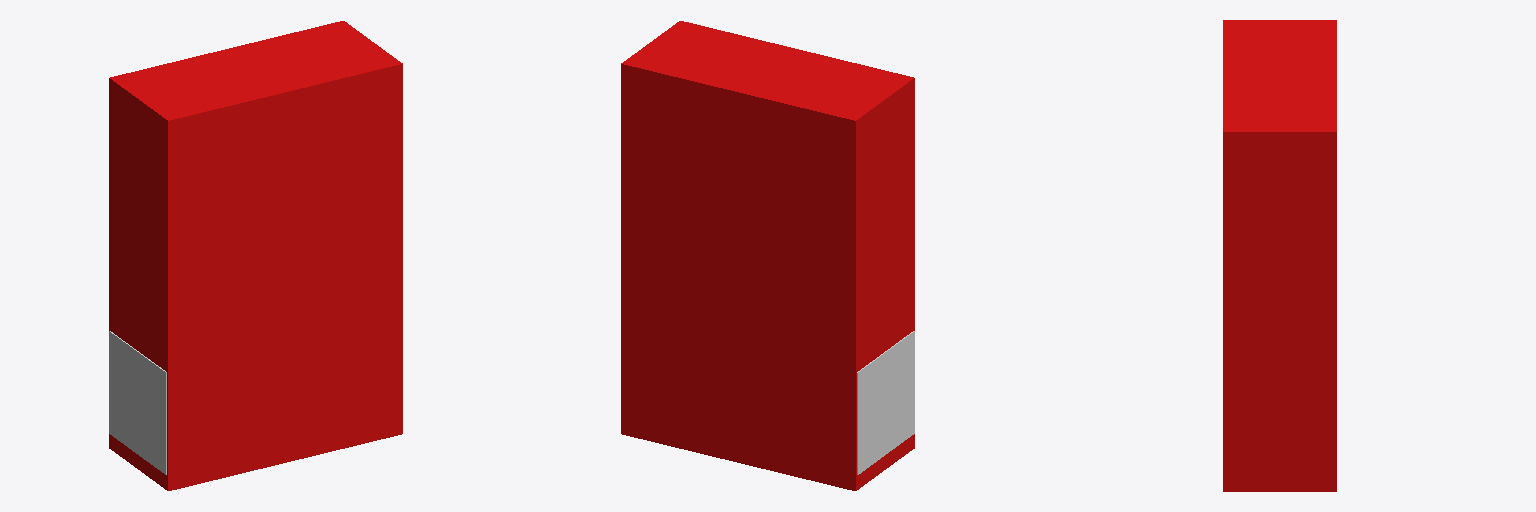
URDF robot description (object):
<robot name="object">
  <material name="red">
    <color rgba=".9 .1 .1 1" />
  </material>

  <link name="tag">
    <visual>
      <origin xyz="0.0 0.0 0.0" rpy="3.14 0 0" />
      <geometry>
        <box size="0.001 0.046 0.046" />
      </geometry>
      <material name="white">
        <color rgba=".9 .9 .9 1" />
      </material>
    </visual>
  </link>
  <joint name="tag_to_box" type="fixed">
    <parent link="tag" />
    <child link="base_link" />
    <origin xyz="0 -0.024 -0.03" />
  </joint>
  <link name="base_link">
    <inertial>
      <origin xyz="0.0 1.57 0.0" rpy="0 0 0" />
      <mass value="0.6" />
      <inertia ixx="0.001" ixy="0.0" ixz="0.0"
        iyy="0.001" iyz="0.0"
        izz="0.001" />
    </inertial>
    <visual>
      <origin xyz="0.055 0.024 0.083" rpy="0 0 0" />
      <geometry>
        <box size="0.11 0.048 0.166" />
      </geometry>
      <material name="red" />
    </visual>
    <collision>
      <origin xyz="0.055 0.024 0.083" rpy="0 0 0" />
      <geometry>
        <box size="0.0 0.0 0.0" />
      </geometry>
    </collision>
  </link>
</robot>

--- Render facts (derived) ---
The picture shows the robot from 3 angles, left to right: view 1: azimuth 30°, elevation 25°; view 2: azimuth 150°, elevation 25°; view 3: azimuth 270°, elevation 25°; orthographic projection.
Robot: object — 2 links, 1 joints (1 fixed); root link tag; default pose: every joint at zero.
Links seen in each view (by area): view 1: base_link, tag; view 2: base_link, tag; view 3: base_link.
Link boxes in pixels (box(x1,y1,x2,y2)): base_link: box(109, 21, 402, 490); tag: box(109, 331, 166, 474); base_link: box(621, 21, 914, 490); tag: box(857, 331, 914, 474); base_link: box(1223, 20, 1336, 491).
Size in the robot's own frame: 0.1105 by 0.048 by 0.166 metres.
Geometry: primitives only (box / cylinder / sphere), no mesh files.
